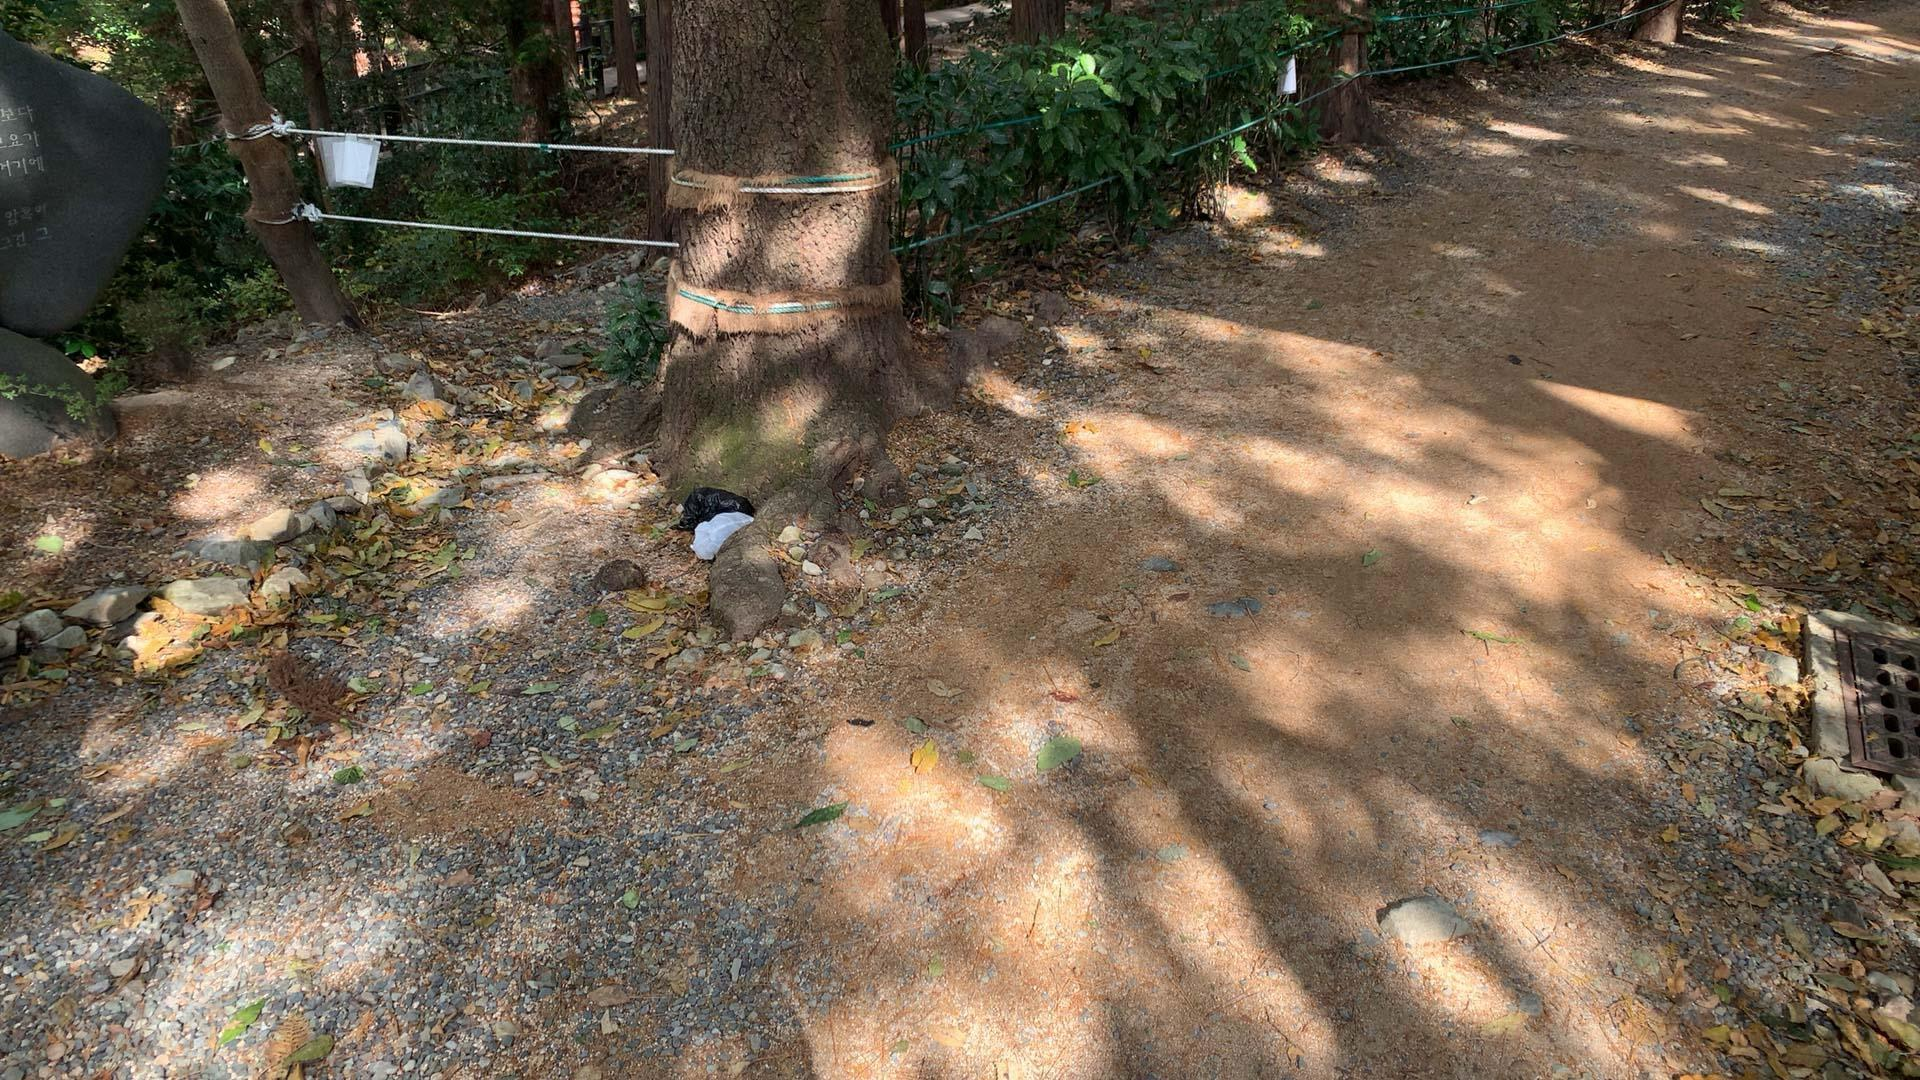black_bag: (669, 483, 754, 530)
white_bag: (688, 508, 758, 563)
